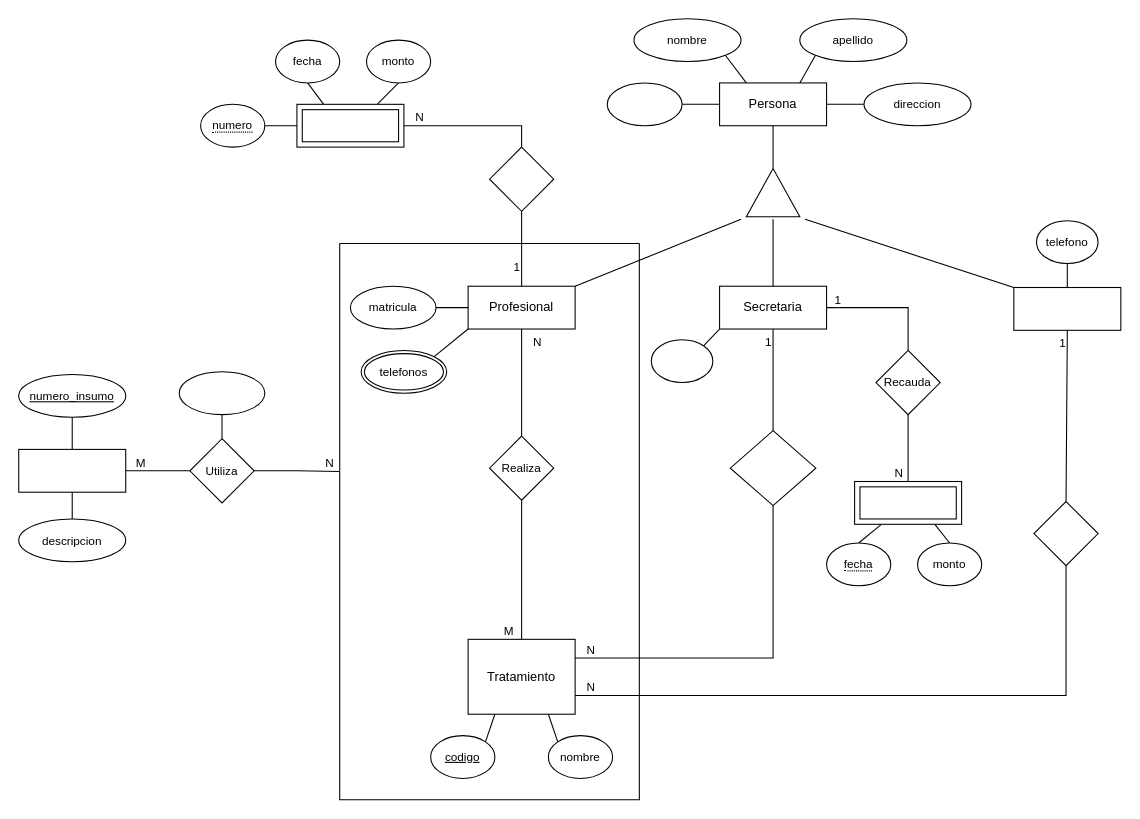
Image size: 1140x819. Some labels were removed from this diagram. Each missing label, with the box of its shape:
cantidad: (178, 371, 265, 415)
Cliente: (1013, 286, 1121, 330)
Concurre: (1033, 500, 1098, 566)
dni: (606, 82, 682, 126)
Encargada: (729, 430, 816, 506)
Insumo: (18, 448, 126, 492)
is_a: (745, 167, 800, 217)
Premio: (296, 103, 404, 147)
Recaudacion: (854, 480, 962, 524)
Recibe: (488, 146, 554, 211)
salario: (650, 339, 713, 383)
